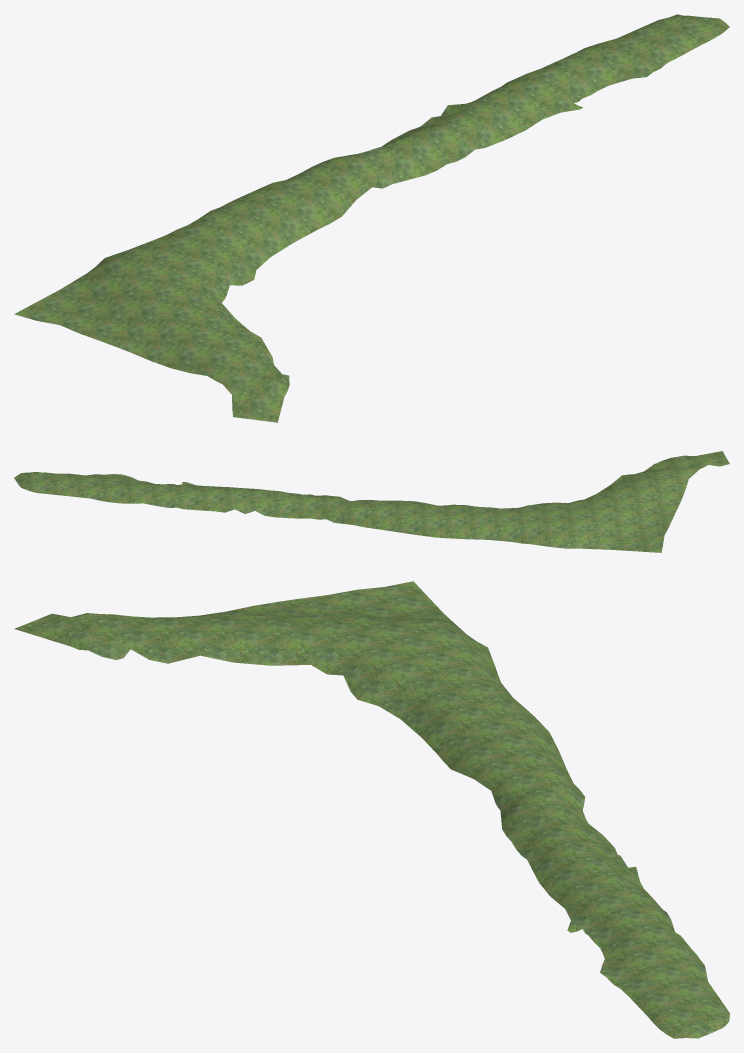
File: ground.glb
3 views of the same model, one above another, from view 1: azimuth 30°, elevation 25°; view 2: azimuth 150°, elevation 25°; view 3: azimuth 270°, elevation 25° (orthographic). The views are drawn at different scales.
Parts seen in each view (by area): view 1: Plane.006; view 2: Plane.006; view 3: Plane.006.
Boxes of the visible parts, x1,y1,x2,y2 form: Plane.006: [14, 14, 729, 422]; Plane.006: [14, 451, 729, 552]; Plane.006: [14, 581, 729, 1038].
Size of the model in its own units: 197 by 4.21 by 130.
1 material, 1 textured.
